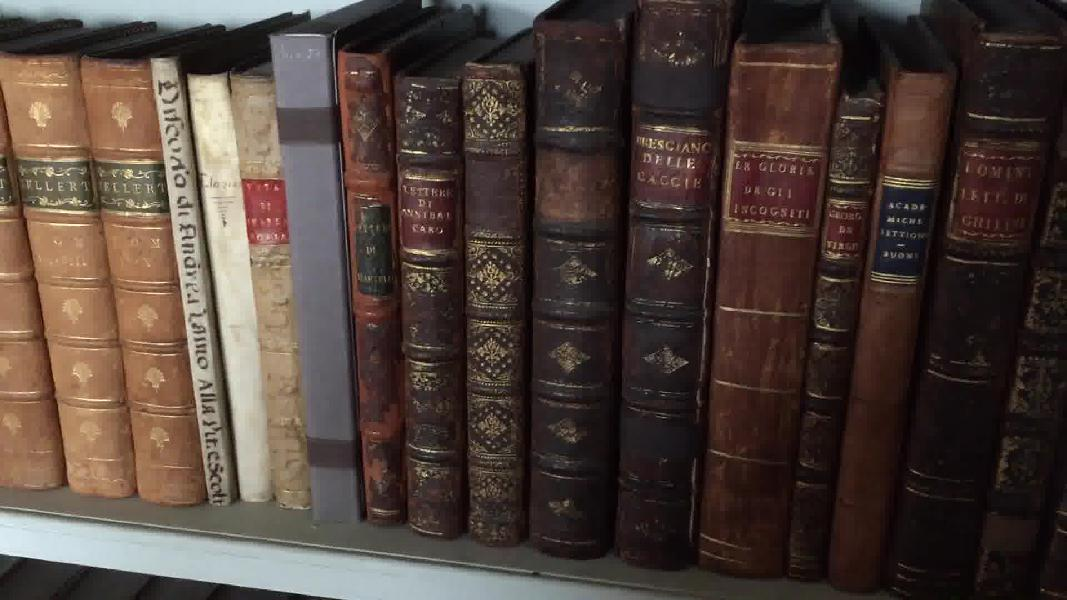Aa6-24: (143, 51, 243, 511)
Aa6-25: (174, 70, 285, 513)
Aa6-26: (231, 66, 313, 521)
Aa6-27: (266, 25, 365, 534)
Aa6-28: (331, 39, 406, 532)
Aa6-29: (386, 61, 471, 548)
Aa6-30: (463, 51, 527, 551)
Aa6-31: (527, 16, 619, 562)
Aa6-32: (625, 7, 715, 578)
Aa6-33: (692, 29, 835, 600)
Aa6-34: (775, 57, 883, 588)
Aa6-35: (825, 44, 947, 586)
Aa6-36: (886, 4, 1063, 596)
